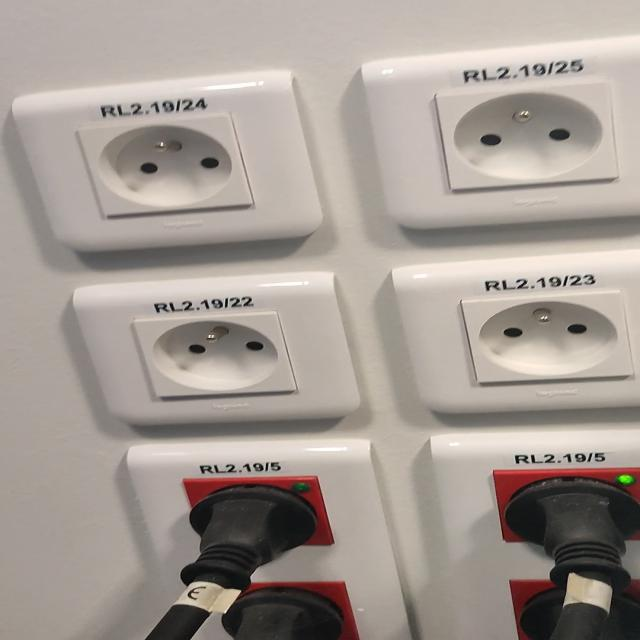house plug: (432, 80, 621, 191), (76, 112, 254, 219), (460, 289, 634, 385), (134, 312, 299, 397)
